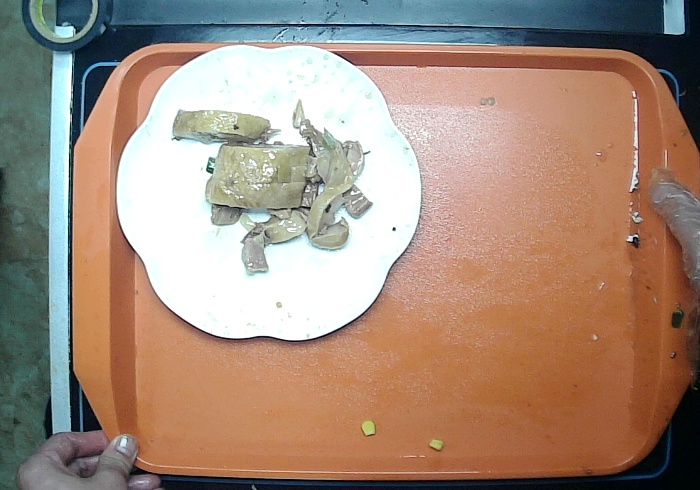HZYJPL-Bai_Se_Hua_Duo_Wan: (106, 36, 428, 351)
